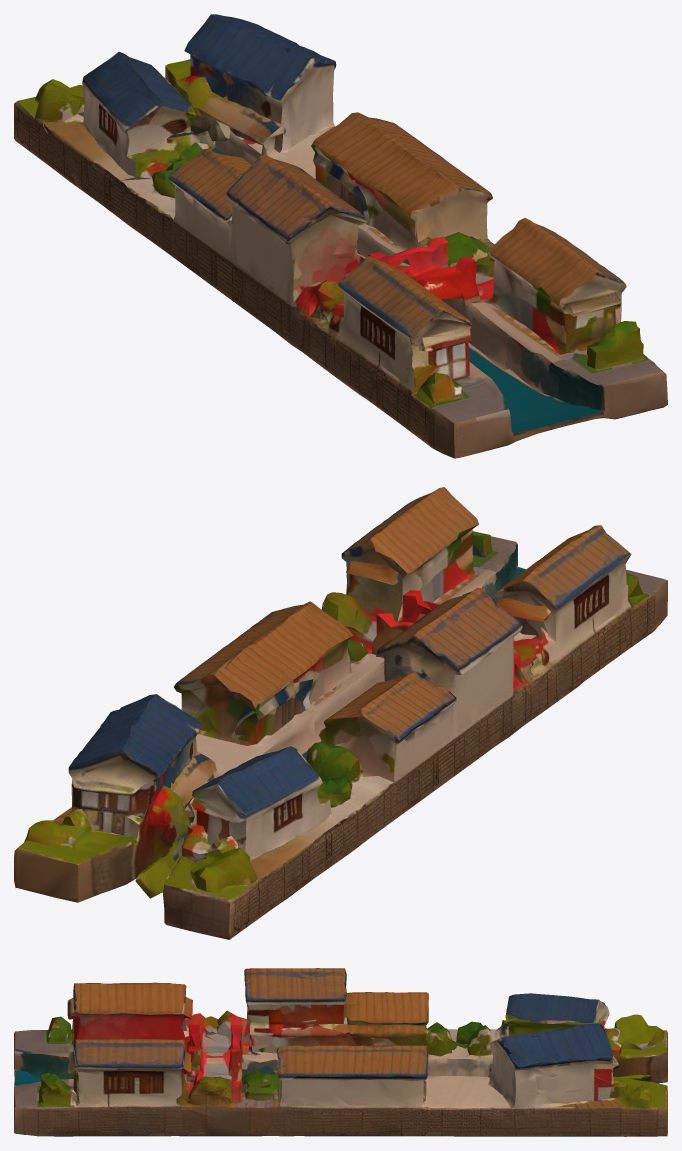
The model's file is dofuchi-strait.glb.
The picture shows the model from 3 angles, top to bottom: view 1: azimuth 30°, elevation 25°; view 2: azimuth 150°, elevation 25°; view 3: azimuth 270°, elevation 25°; orthographic projection. The views are drawn at different scales.
Parts seen in each view (by area): view 1: logan-textured.obj; view 2: logan-textured.obj; view 3: logan-textured.obj.
Boxes of the visible parts, box(x1,y1,x2,y2) form: logan-textured.obj: box(14, 14, 667, 458); logan-textured.obj: box(14, 487, 667, 939); logan-textured.obj: box(14, 968, 667, 1136).
Bounding box in the file's own units: 0.304 × 0.1734 × 1.
Materials: 1 (1 with a texture image).
